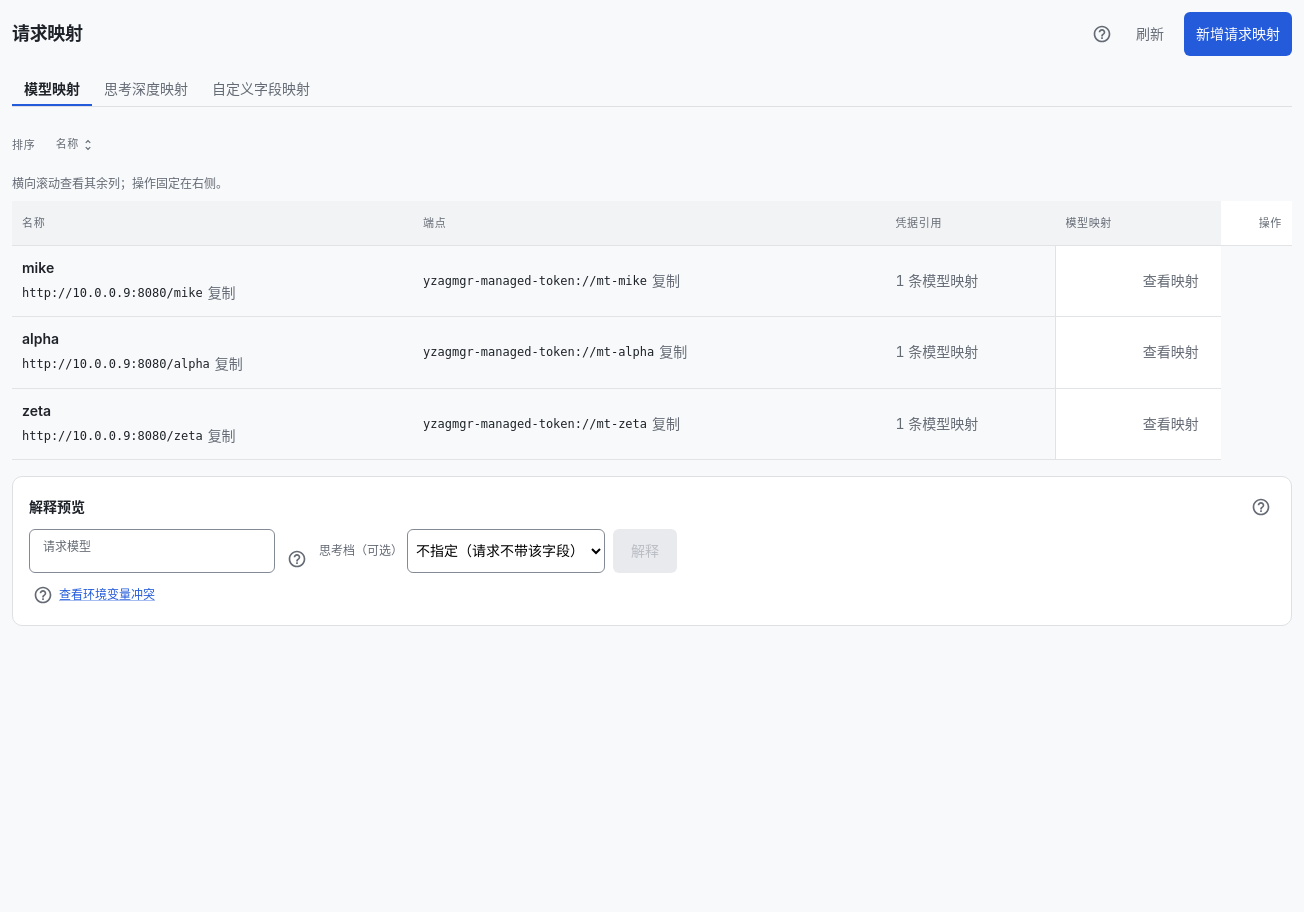
Test: RouterPage · 列表展示排序（UC-096 A7 组件层） › 工具栏排序控件三态循环：请求映射列表按名称升序/降序/默认序，URL 与状态条如实
Expected: the text "mike" is shown, 22,258 -> 54,276
// ① 升序（默认方向 ⇒ 规范 URL 省略 dir）。
Click the button "名称" at (75, 145), box 43,123 -> 107,167
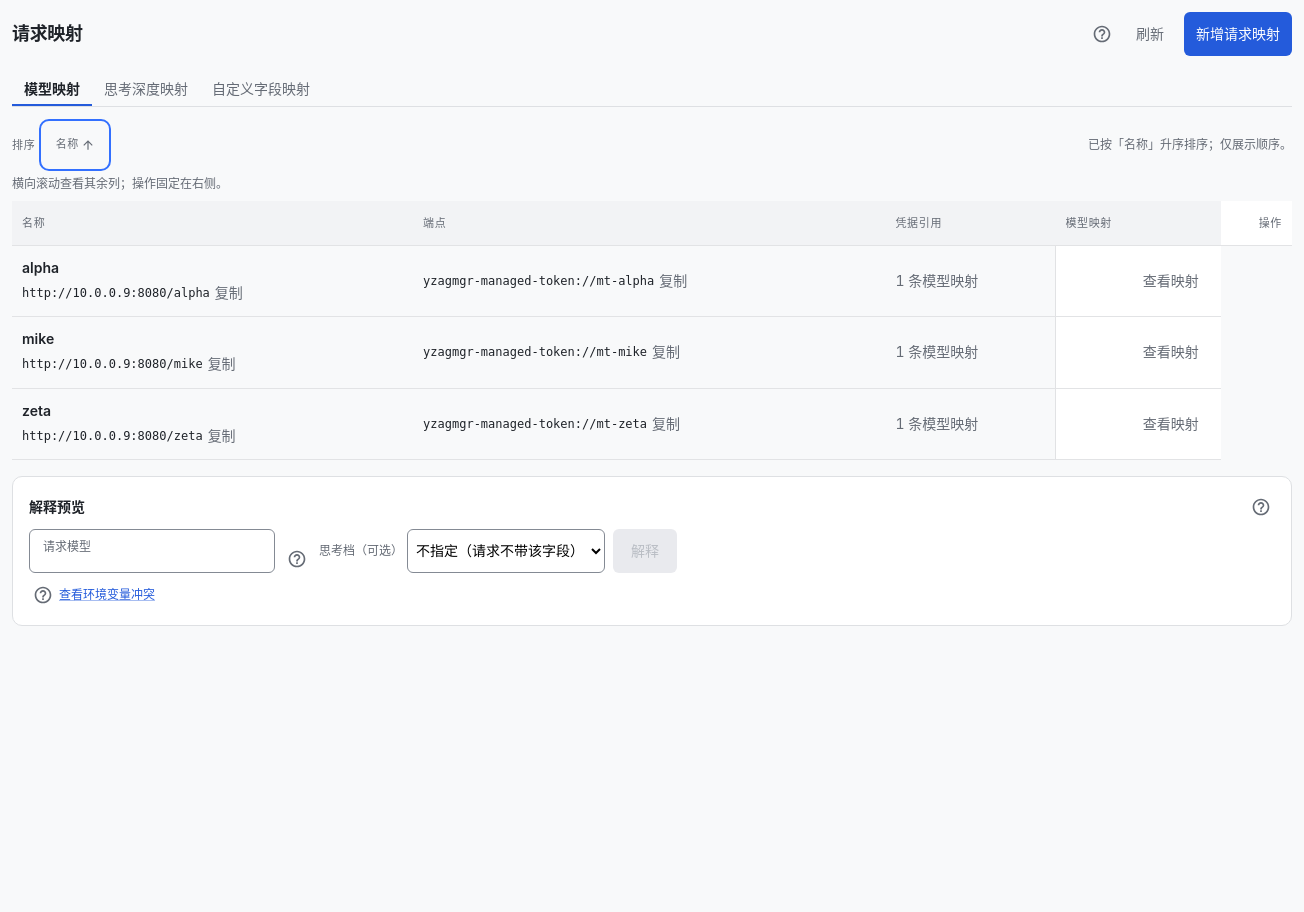
Click the button "名称" at (75, 145), box 43,123 -> 107,167
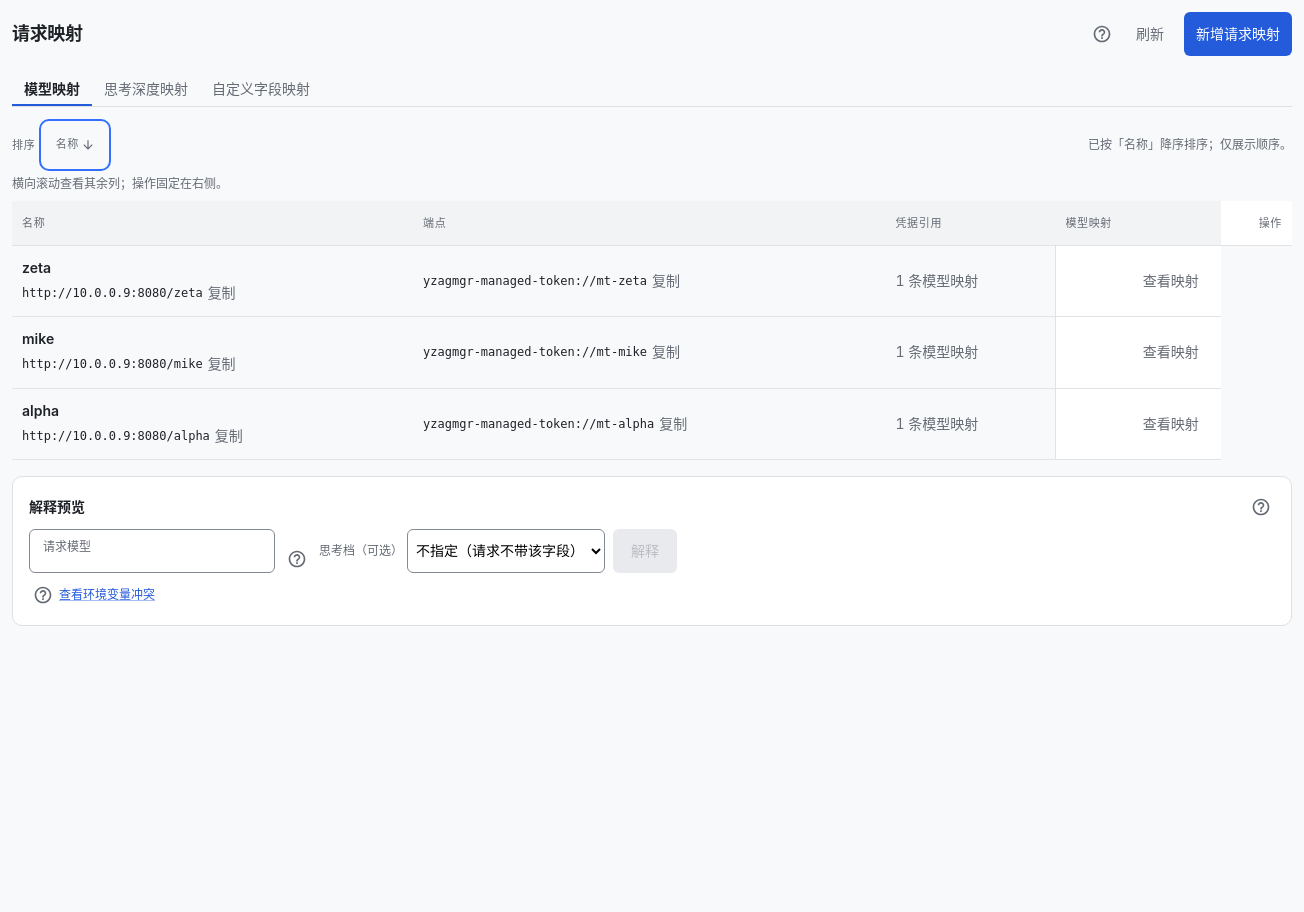
Click the button "名称" at (75, 145), box 43,123 -> 107,167
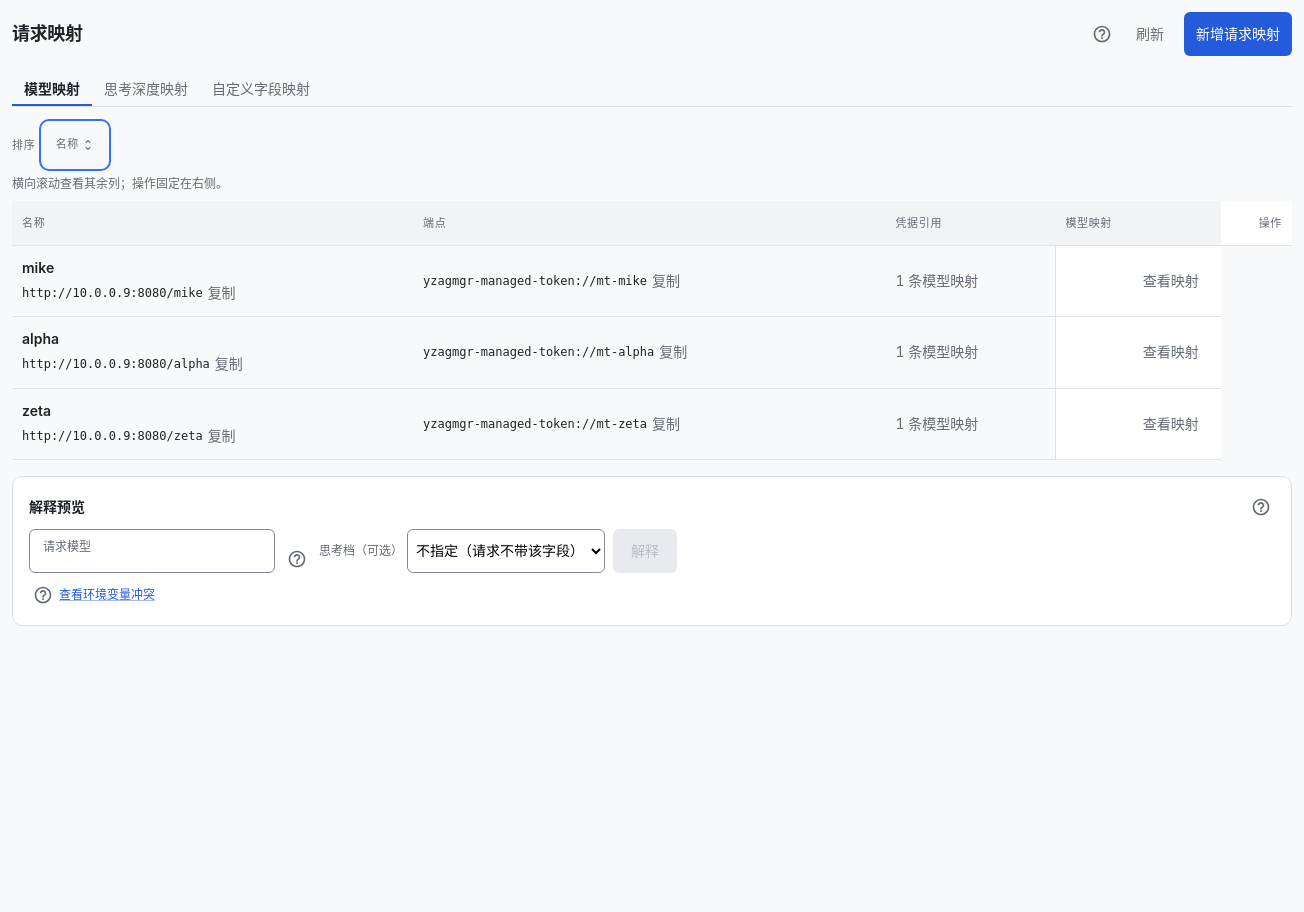
Expected: the button with aria-label "按「名称」排序（当前：未排序）" is shown, 43,123 -> 107,167
